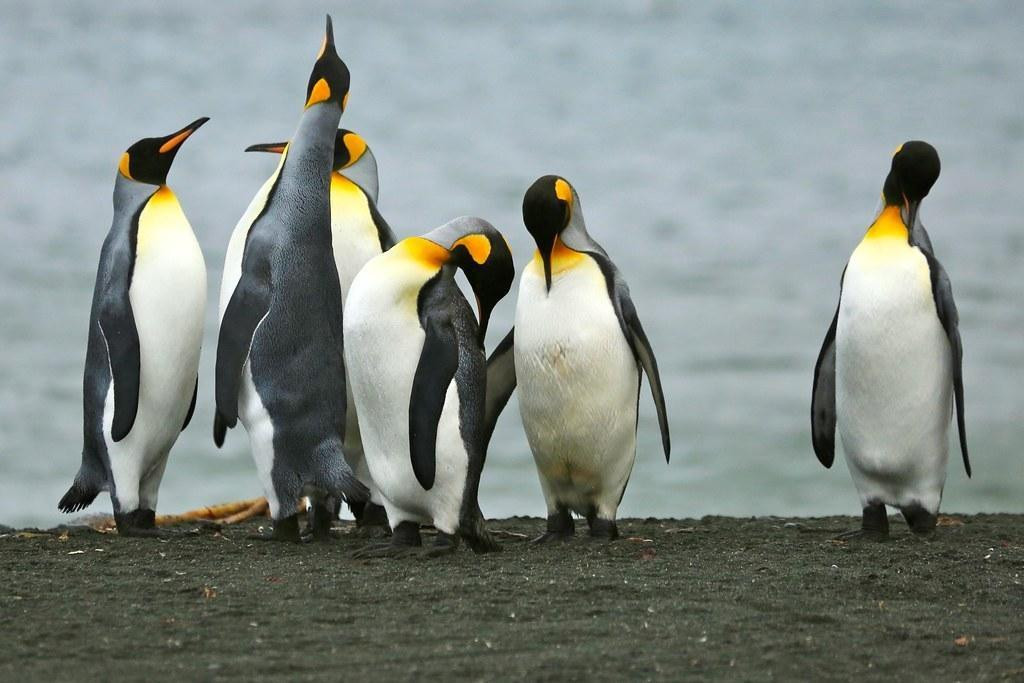Penguin: (214, 14, 370, 539), (486, 176, 670, 541), (809, 139, 972, 539), (58, 116, 210, 534), (344, 216, 514, 556), (331, 128, 398, 311), (344, 362, 391, 538), (244, 141, 288, 154)
